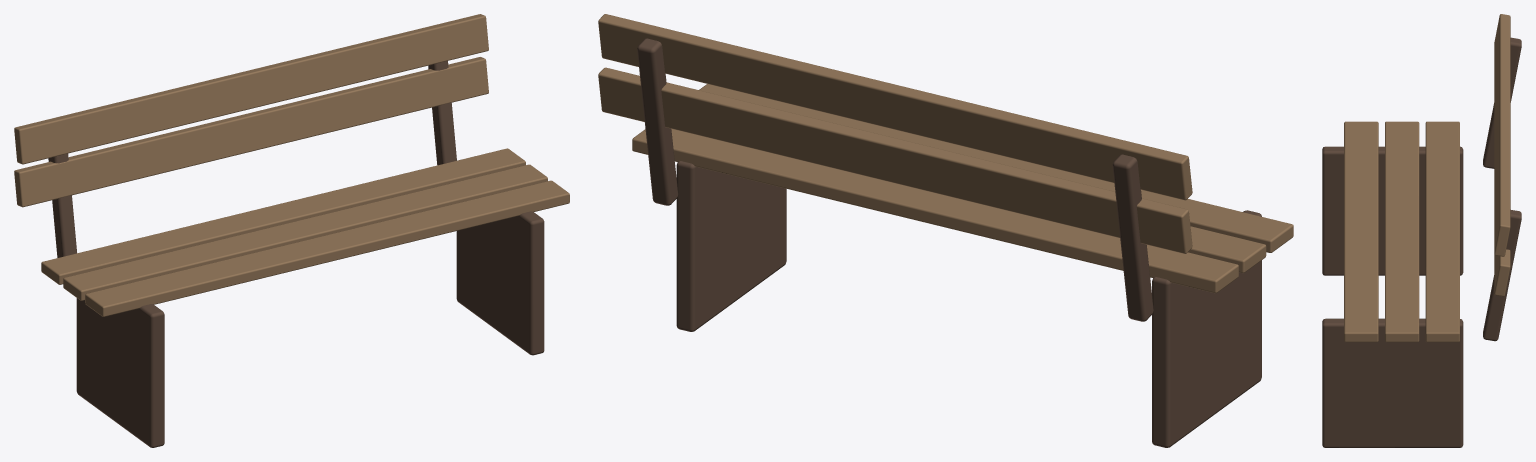
The picture shows the model from 3 angles, left to right: view 1: azimuth 30°, elevation 25°; view 2: azimuth 150°, elevation 25°; view 3: azimuth 270°, elevation 25°; orthographic projection. The views are drawn at different scales.
Parts seen in each view (by area): view 1: back.001, back, seat, seat.002, seat.001, leg, leg.001, legb.001, legb; view 2: back.001, back, seat.002, leg, leg.001, seat, legb, legb.001, seat.001; view 3: leg.001, seat, seat.002, seat.001, leg, back.001, legb.001, legb, back.
Part boxes in pixels (bbox=[...]): back.001: bbox=[14, 14, 488, 164]; back: bbox=[14, 57, 488, 207]; seat: bbox=[85, 180, 569, 316]; seat.002: bbox=[41, 148, 525, 284]; seat.001: bbox=[63, 164, 547, 300]; leg: bbox=[76, 298, 164, 447]; leg.001: bbox=[456, 211, 544, 355]; legb.001: bbox=[428, 61, 456, 165]; legb: bbox=[48, 153, 76, 257]; back.001: bbox=[598, 14, 1192, 200]; back: bbox=[598, 67, 1192, 253]; seat.002: bbox=[632, 128, 1238, 293]; leg: bbox=[1152, 210, 1261, 447]; leg.001: bbox=[676, 161, 786, 331]; seat: bbox=[699, 84, 1293, 252]; legb: bbox=[1112, 154, 1153, 321]; legb.001: bbox=[637, 38, 678, 205]; seat.001: bbox=[1188, 226, 1266, 273]; leg.001: bbox=[1322, 318, 1463, 447]; seat: bbox=[1344, 121, 1378, 342]; seat.002: bbox=[1425, 121, 1459, 342]; seat.001: bbox=[1385, 121, 1419, 342]; leg: bbox=[1322, 146, 1463, 275]; back.001: bbox=[1494, 14, 1510, 256]; legb.001: bbox=[1483, 210, 1521, 341]; legb: bbox=[1483, 37, 1521, 168]; back: bbox=[1494, 249, 1510, 296].
Bounding box in the file's own units: 1.6 × 0.8463 × 0.637.
